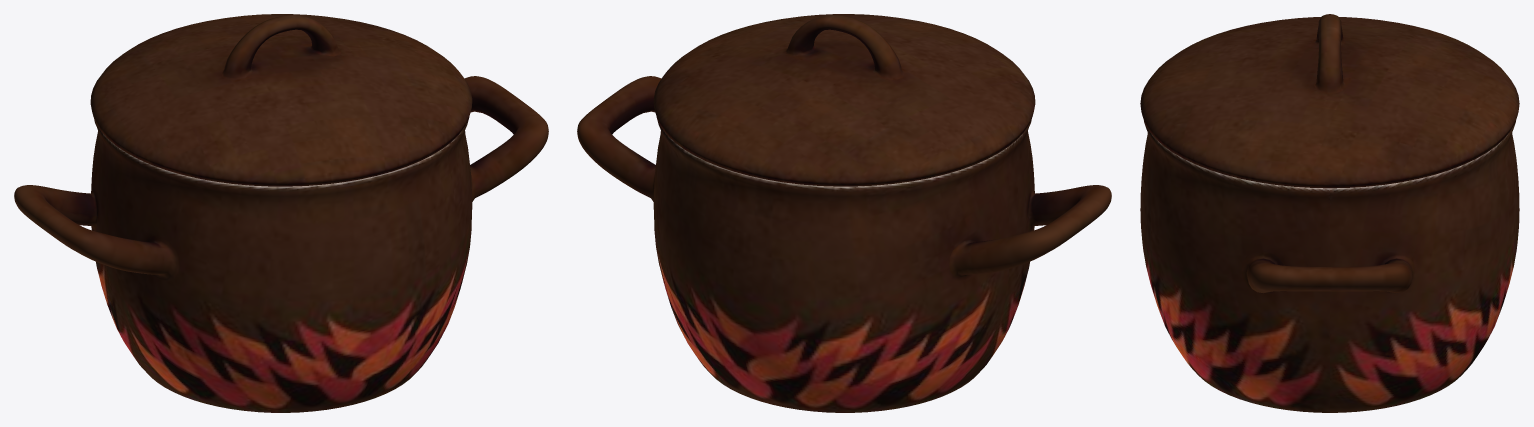
Rendered from pot_enamel_01.glb.
The picture shows the model from 3 angles, left to right: view 1: azimuth 30°, elevation 25°; view 2: azimuth 150°, elevation 25°; view 3: azimuth 270°, elevation 25°; orthographic projection.
Parts seen in each view (by area): view 1: pot_enamel_01_base, pot_enamel_01_lid; view 2: pot_enamel_01_base, pot_enamel_01_lid; view 3: pot_enamel_01_base, pot_enamel_01_lid.
Part boxes in pixels (left/top/right/bottom): pot_enamel_01_base: left=14, top=76, right=548, bottom=412; pot_enamel_01_lid: left=90, top=14, right=472, bottom=186; pot_enamel_01_base: left=577, top=76, right=1111, bottom=412; pot_enamel_01_lid: left=653, top=14, right=1035, bottom=186; pot_enamel_01_base: left=1140, top=121, right=1519, bottom=412; pot_enamel_01_lid: left=1140, top=14, right=1519, bottom=188.
Size of the model in its own units: 0.2629 by 0.1783 by 0.1805.
Materials: 1 (1 with a texture image).
